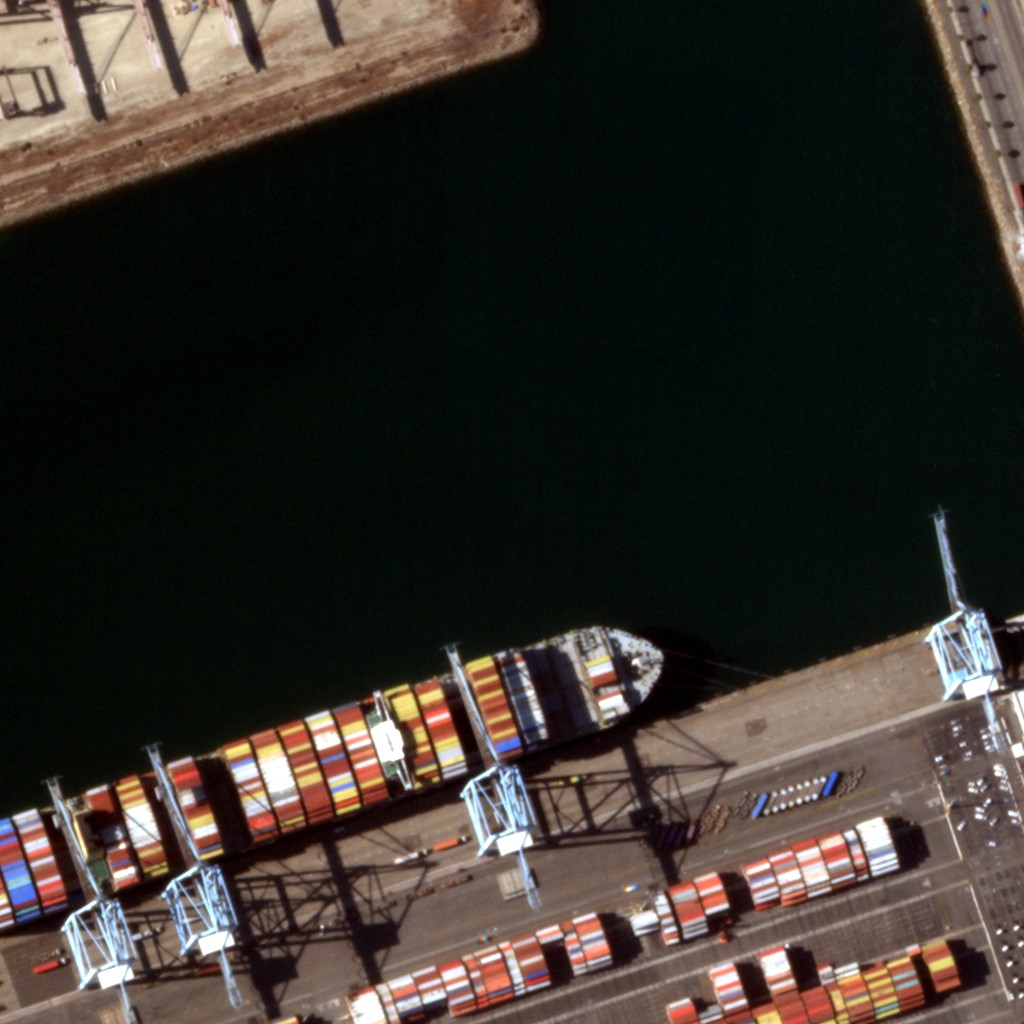boats: (2, 627, 664, 930)
cranes: (448, 644, 558, 874), (48, 790, 141, 995), (152, 752, 238, 971), (944, 524, 1019, 717)
